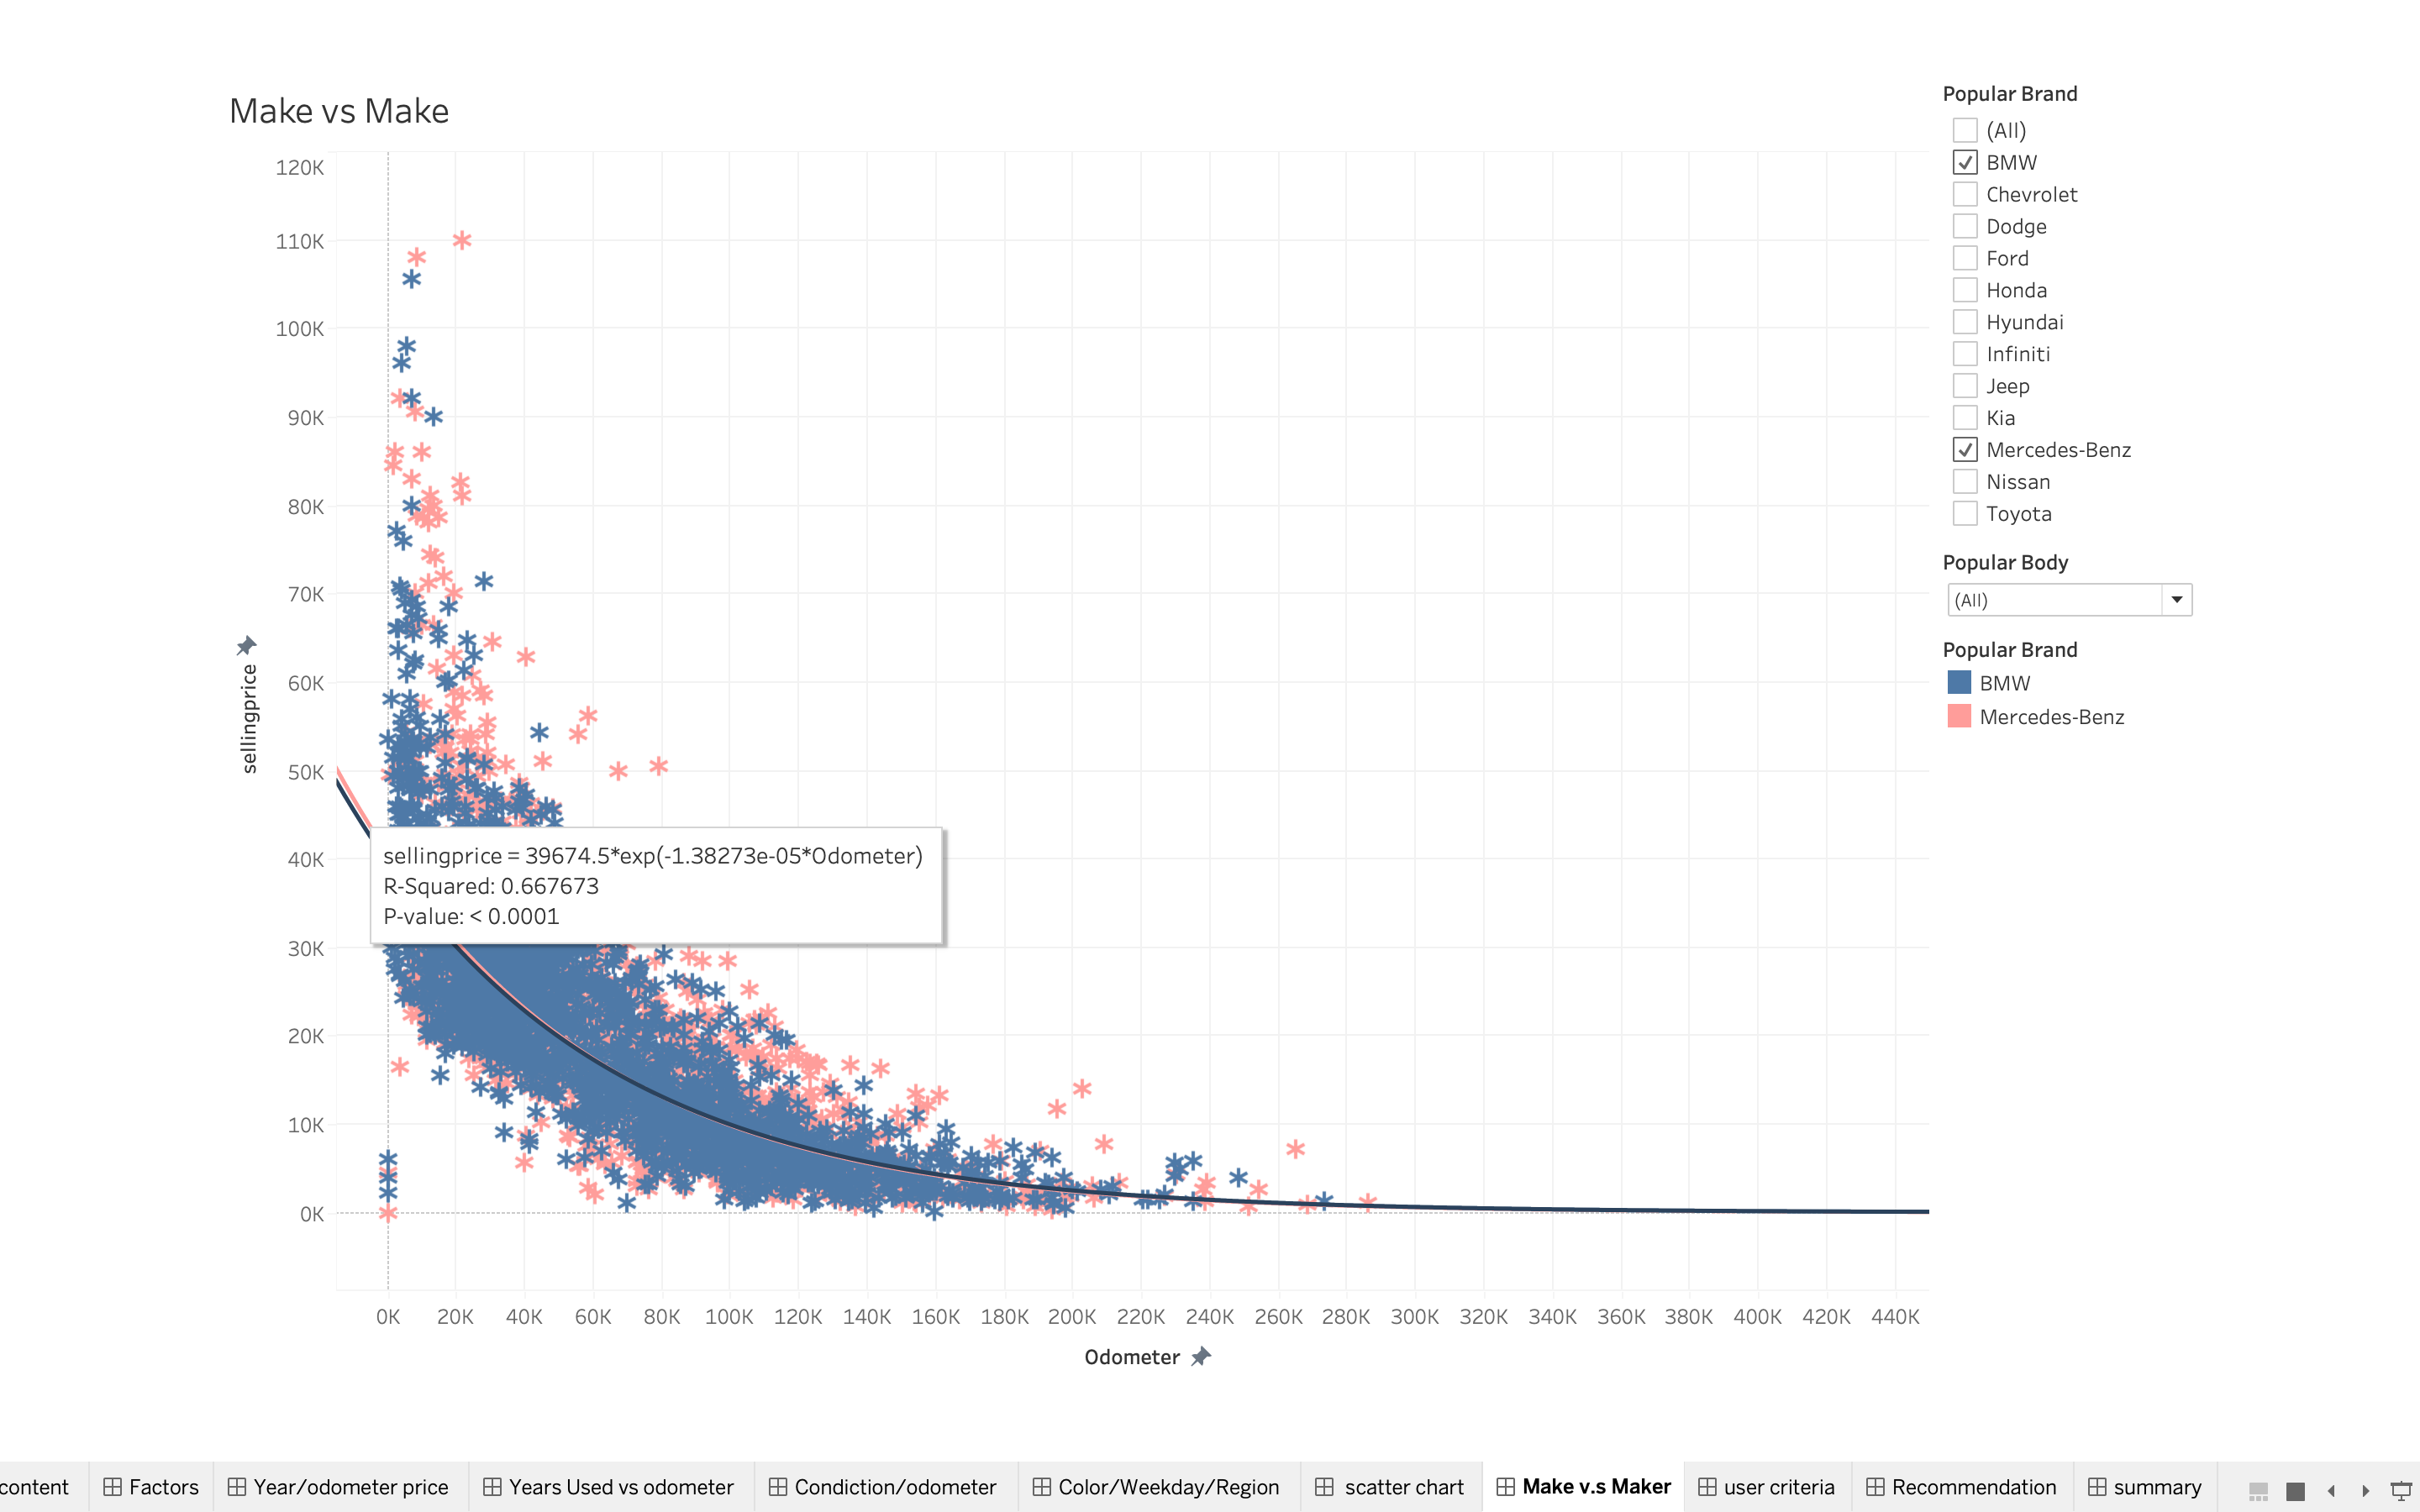

The page's visual inventory and layout, read from the dashboard file:
{"tool":"tableau","page":{"name":" scatter chart","canvas":[1200,800],"ordinal":0},"visuals":[{"type":"worksheet","title":"odometer vs price by make","mark":"Automatic","rows":["sellingprice"],"cols":["odometer"],"box":[8,8,1184,784]}]}

Visuals, with their boxes on the page's 1200x800 design canvas (x1, y1, x2, y2). These are canvas units, not pixel positions in the 2420x1512 screenshot, which may show the page scaled, cropped or inside an application window:
"odometer vs price by make" worksheet: detection(8, 8, 1192, 792)
